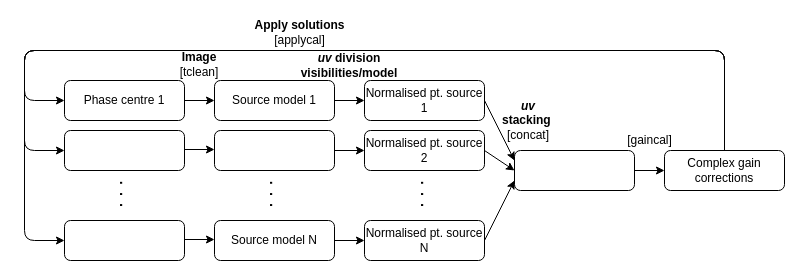
This 802x278 diagram has some shape labels left out. Here are the shapes that lost their labels. From the top down, the centre of each, then its label:
At (x=124, y=150): "Phase centre 2".
At (x=274, y=150): "Source model 2".
At (x=574, y=170): "Stacked normalised point source".
At (x=124, y=240): "Phase centre N".
